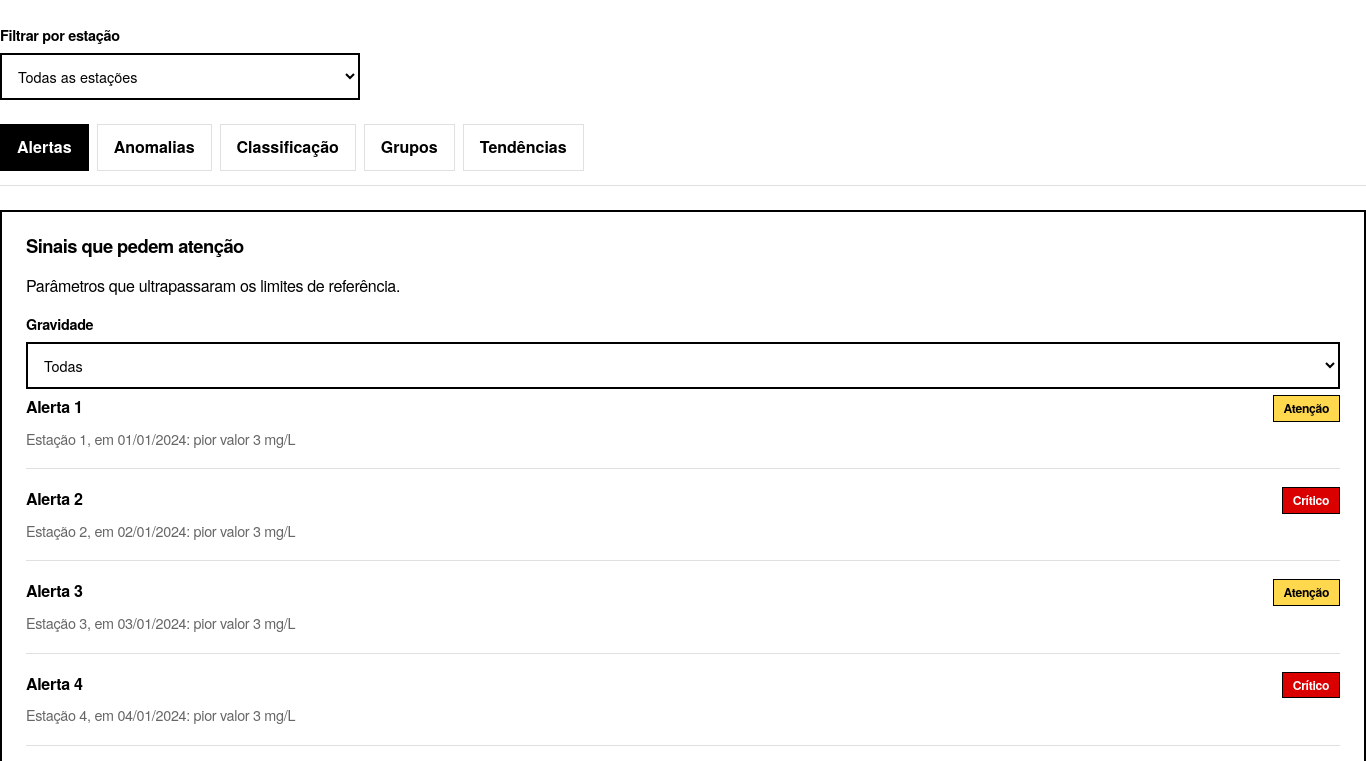
Test: exploração de análises extensas › oculta estáveis por padrão e combina direção com o filtro de estação
The image size is (1366, 761).
Step 1. Click the tab "Tendências" → {"x": 523, "y": 148}, box [463,124,584,171]
(page scrolled)
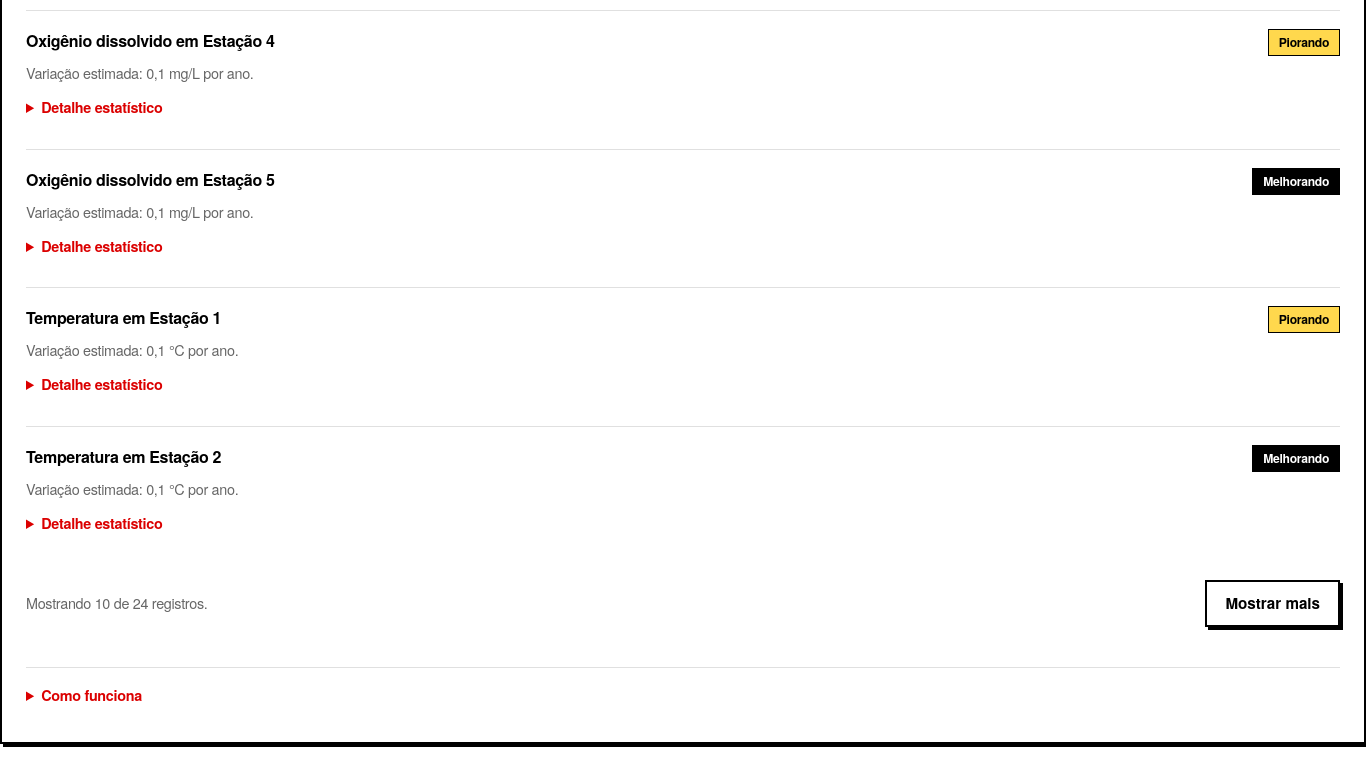
Expected: the text "Estável" is not shown
Expected: the text "Mostrando 10 de 24 registros." is shown, [26,592,208,615]
Step 2. Click the button "Mostrar mais" → {"x": 1273, "y": 604}, box [1205,580,1340,627]
(page scrolled)
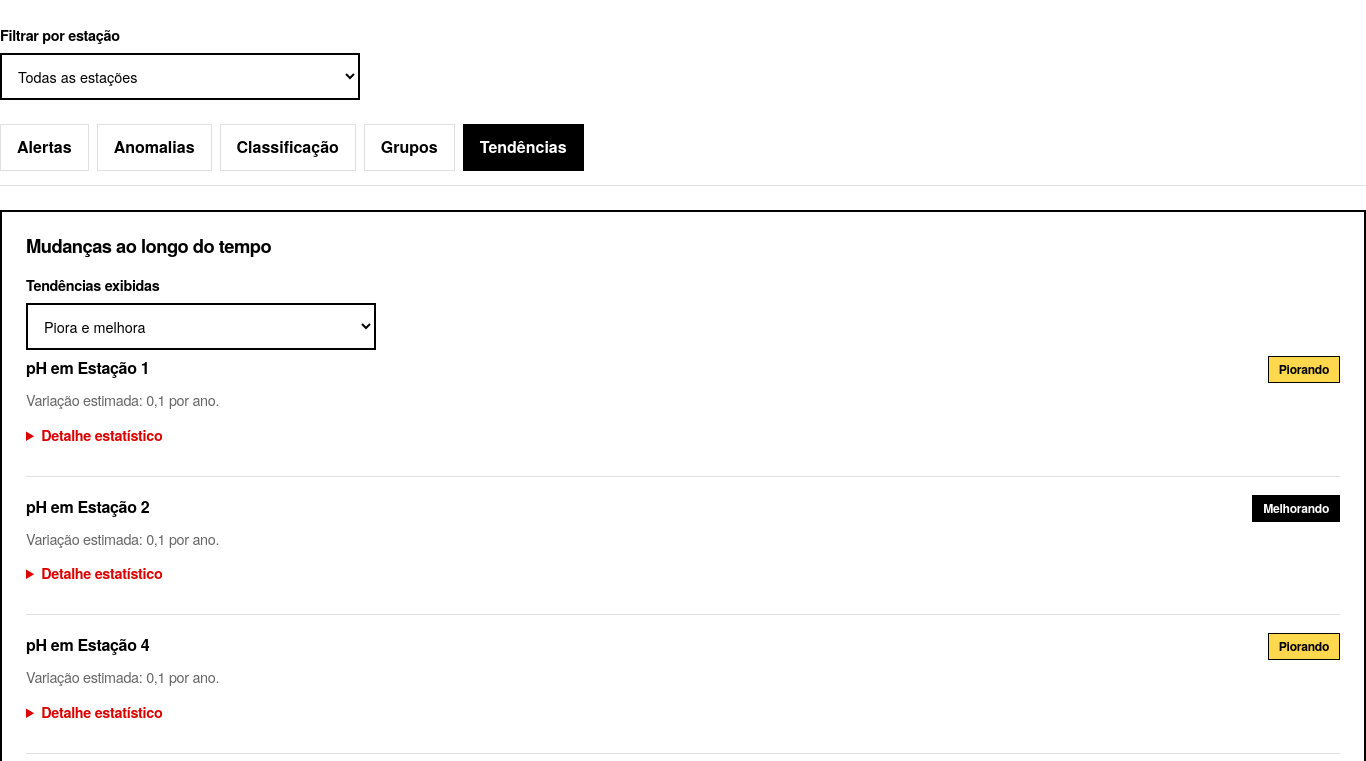
Expected: the number of list items is 20
Step 3. Select "Somente estáveis" in the dropdown labelled "Tendências exibidas" → {"x": 201, "y": 327}, box [26,303,376,350]
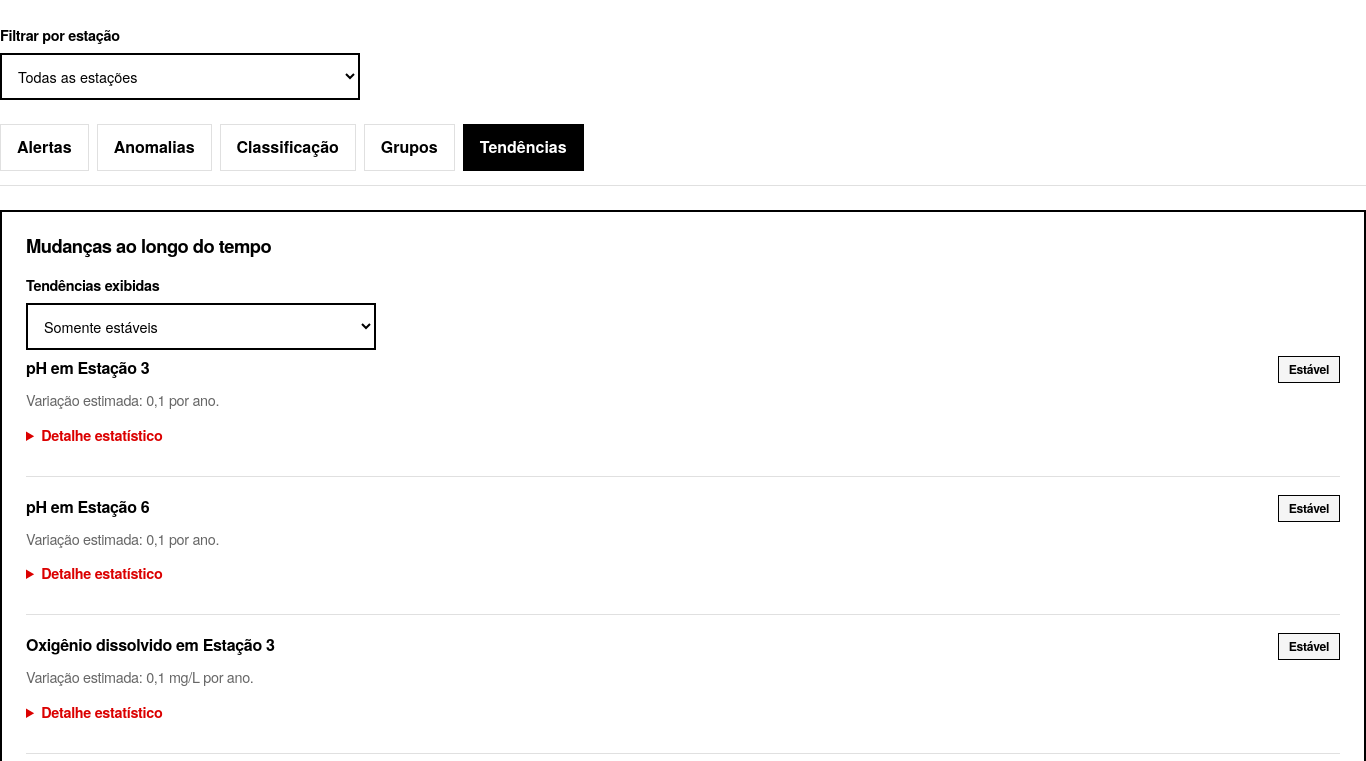
Expected: the text "Estável" is shown 10 times
Step 4. Select "Estação 3" in the dropdown labelled "Filtrar por estação" → {"x": 180, "y": 77}, box [0,53,360,100]
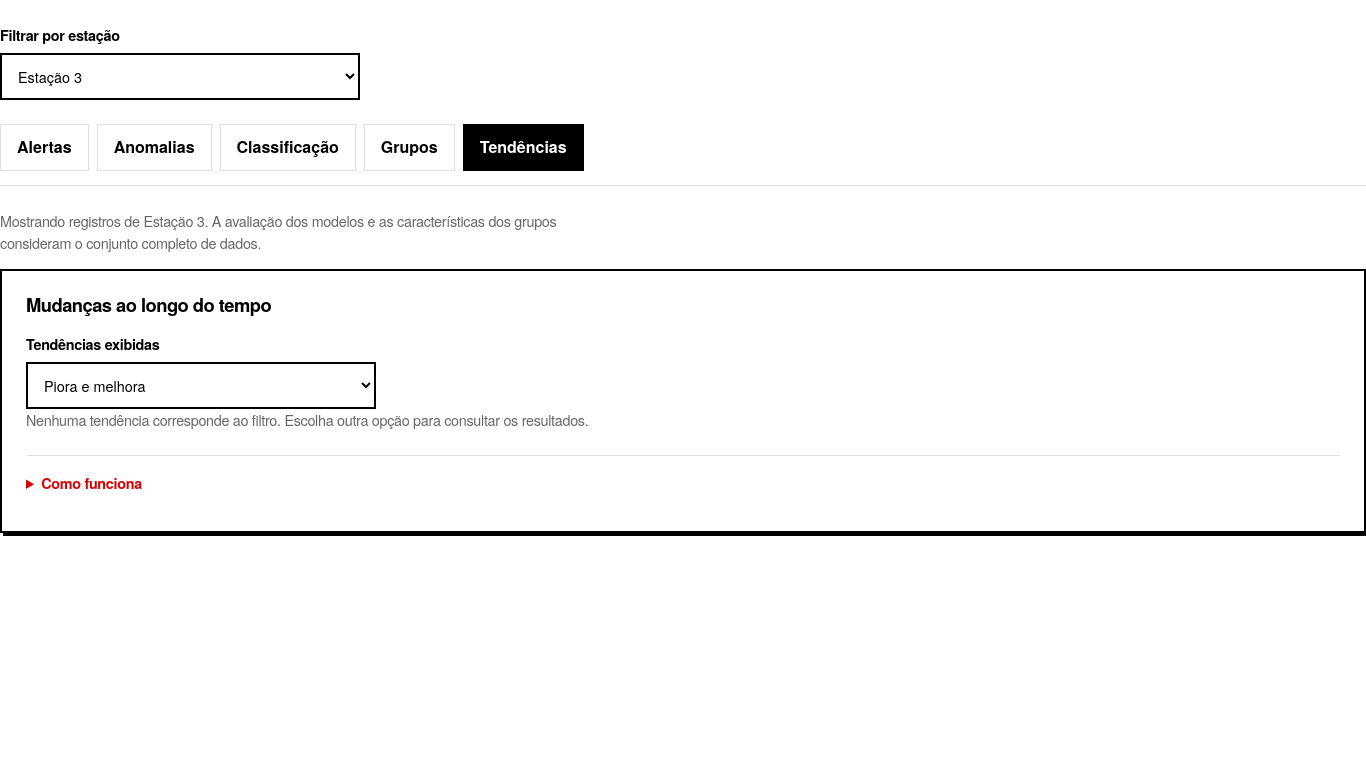
Expected: the text "Nenhuma tendência corresponde ao filtro" is shown, [26,409,588,430]
Step 5. Select "Todas, incluindo estáveis" in the dropdown labelled "Tendências exibidas" → {"x": 201, "y": 386}, box [26,362,376,409]
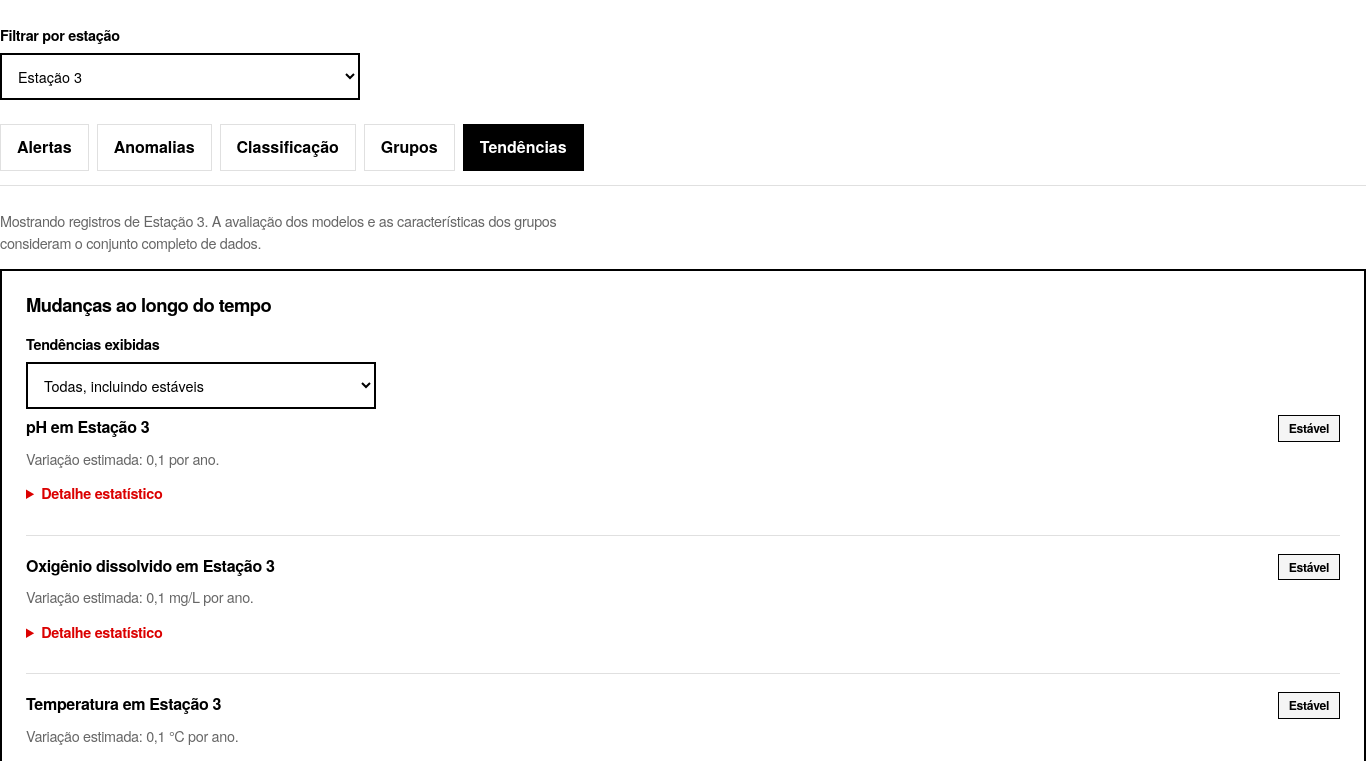
Expected: the text "Estável" is shown 6 times
